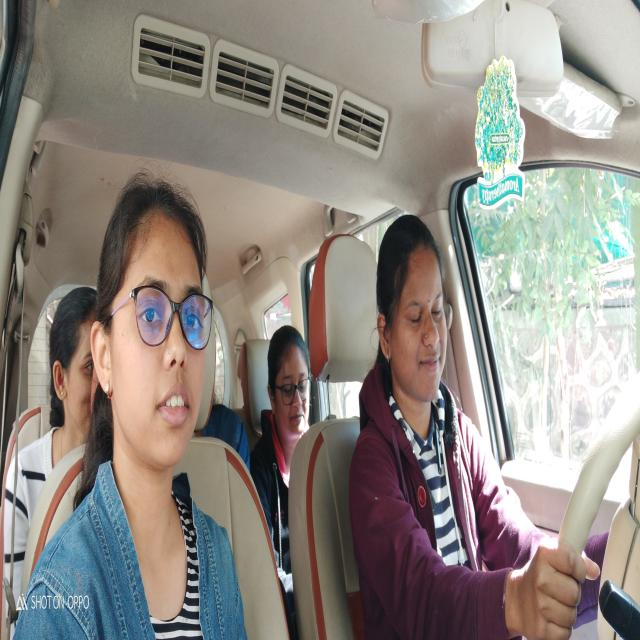drowsy: (373, 208, 451, 408)
person: (91, 180, 211, 468), (47, 286, 102, 443), (263, 327, 311, 442)
